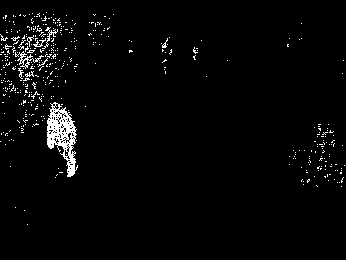person: (47, 102, 80, 178)
